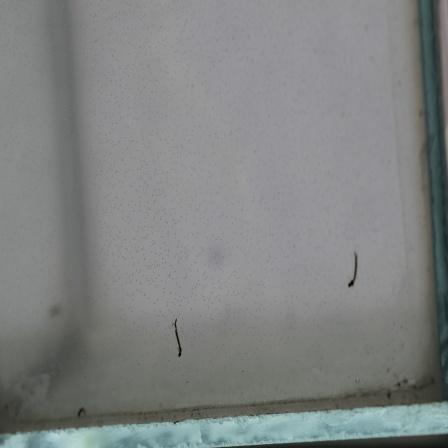Jentik-Nyamuk: (169, 316, 191, 359), (342, 250, 365, 288)
